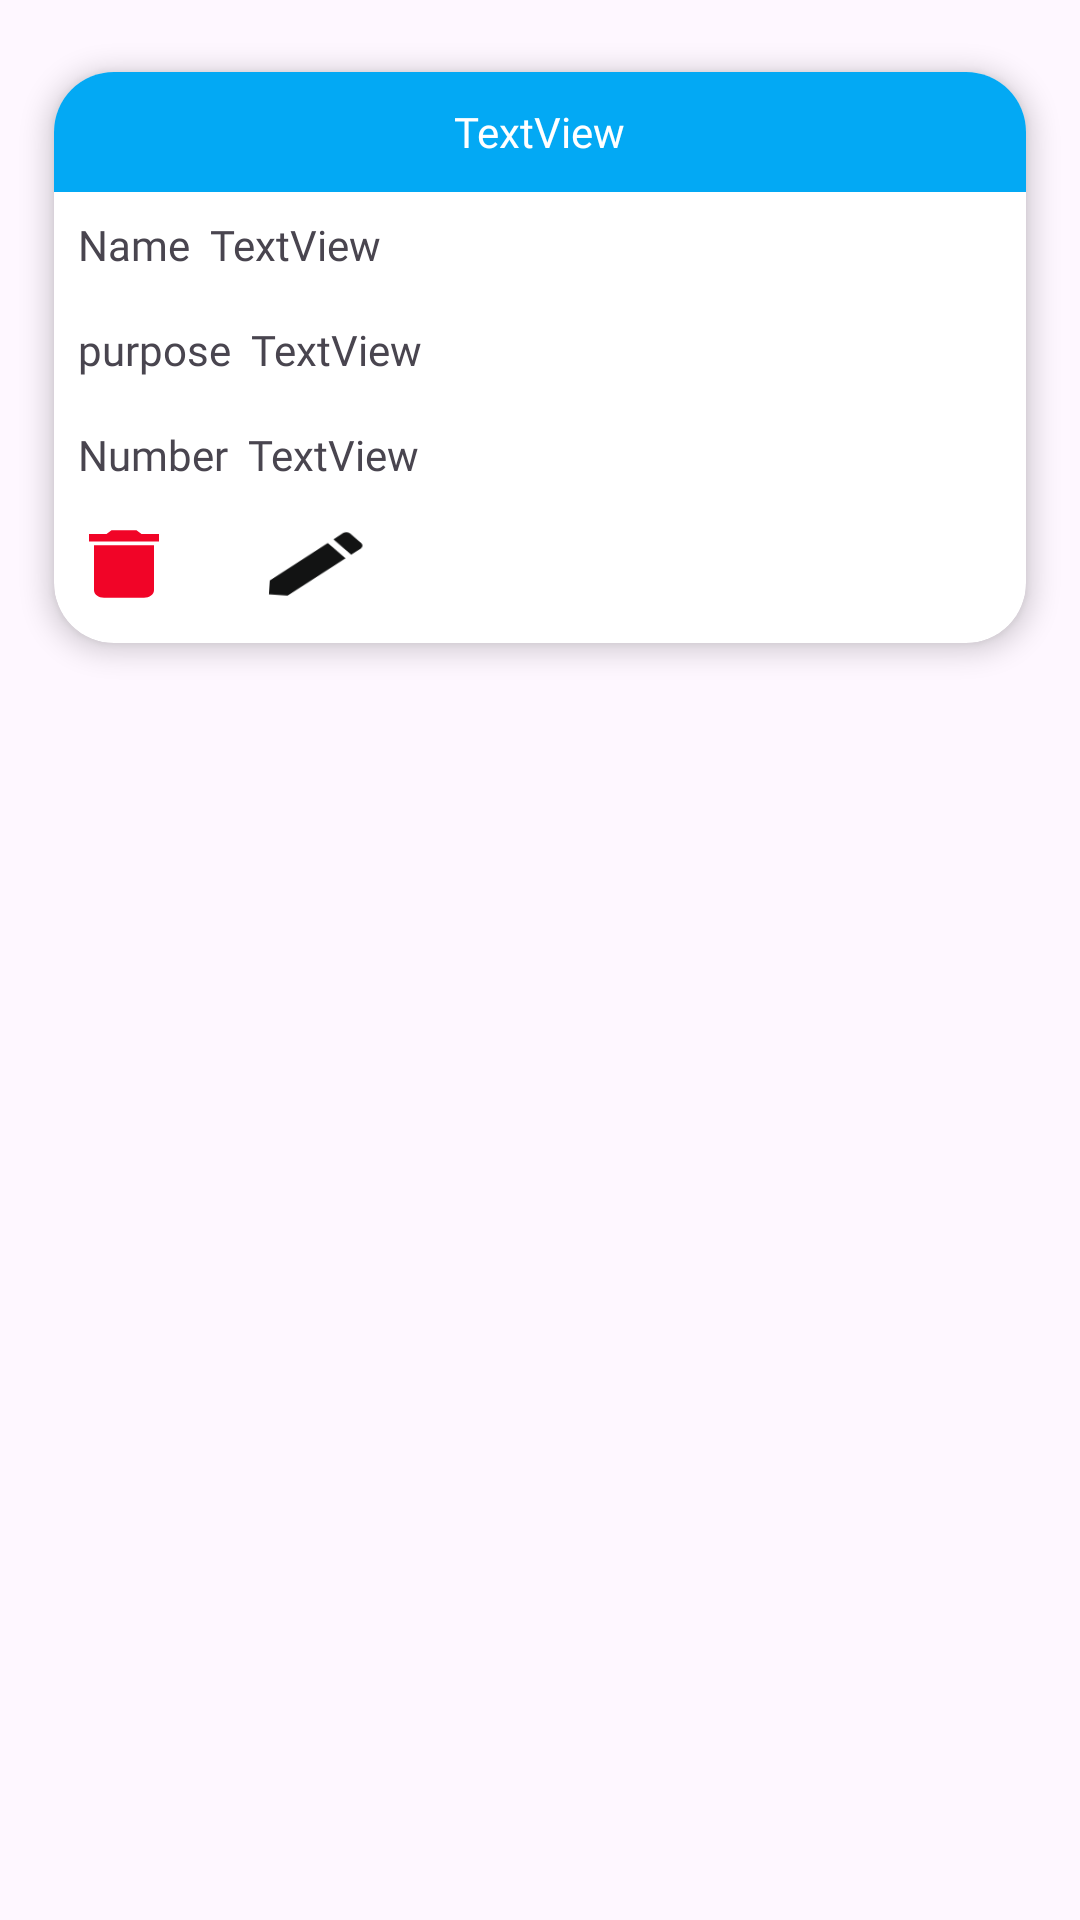

Locate icon controls on the screen. Image size 1080 x 1920, boxes as rect(x1, y1, x2, y2).
delete: rect(89, 530, 159, 598)
